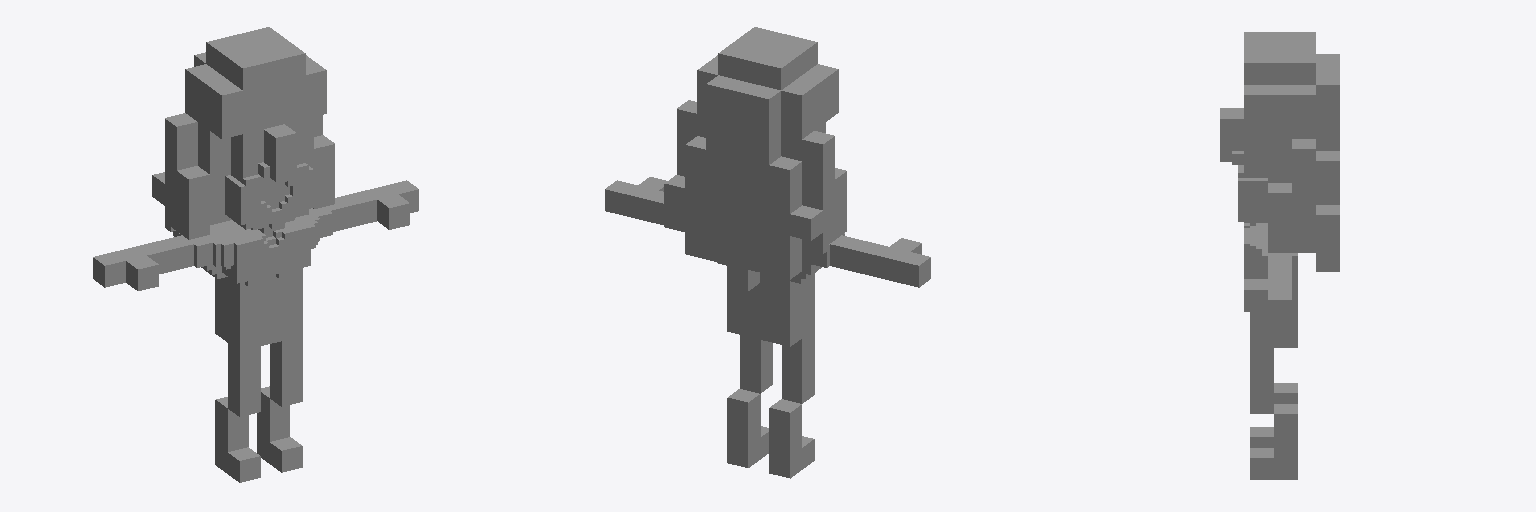
The model's file is character.obj.
3 views of the same model, side by side, from view 1: azimuth 30°, elevation 25°; view 2: azimuth 150°, elevation 25°; view 3: azimuth 270°, elevation 25° (orthographic).
Visible parts, largest first — view 1: hd_char1.bake; view 2: hd_char1.bake; view 3: hd_char1.bake.
Boxes of the visible parts, x1,y1,x2,y2 form: hd_char1.bake: [93, 27, 418, 482]; hd_char1.bake: [605, 27, 930, 478]; hd_char1.bake: [1220, 32, 1339, 479].
Bounding box in the file's own units: 60 × 76 × 20.